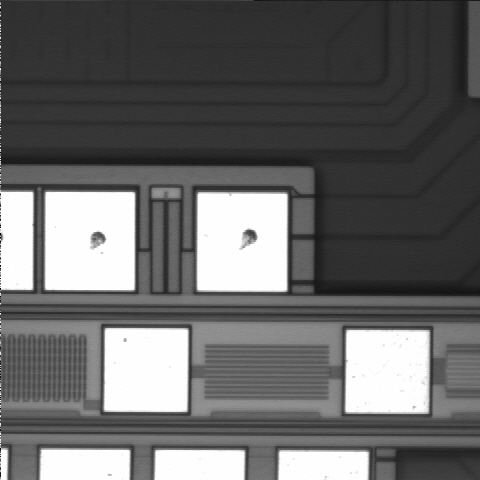pad: (197, 192, 287, 292), (45, 192, 135, 290), (104, 328, 188, 412), (345, 330, 429, 413)
